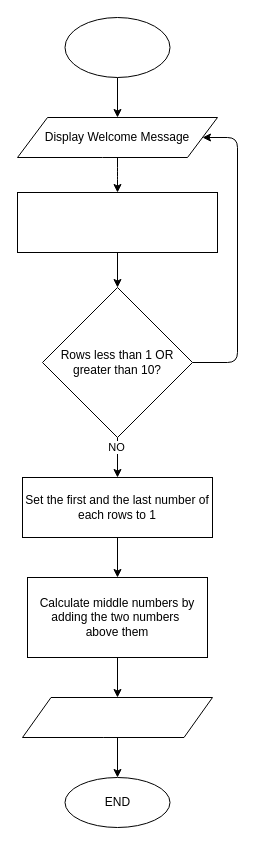
This 263x845 diagram has some shape labels left out. The centre of each missing label's shape, as x and y in pixels:
"Display Pascal's Treiangle" belongs at (117,717).
"Display Variables: rows, i, j, space, pascal" belongs at (117,222).
"START" belongs at (117,47).
